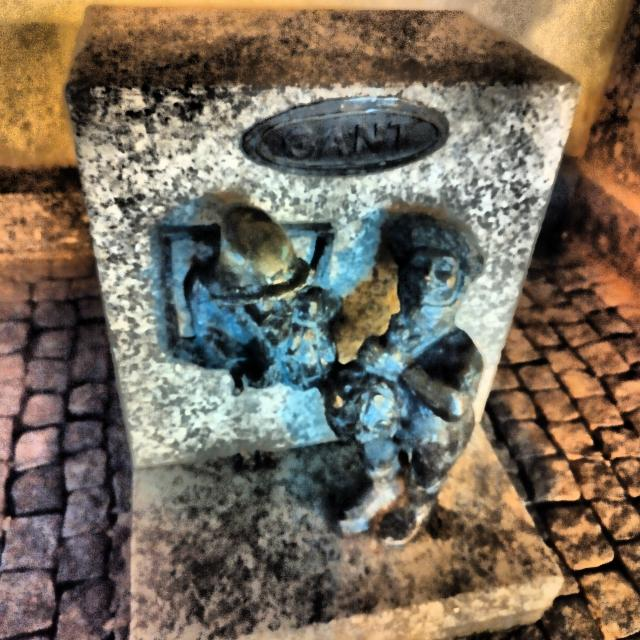Kantorki: (158, 202, 485, 545)
